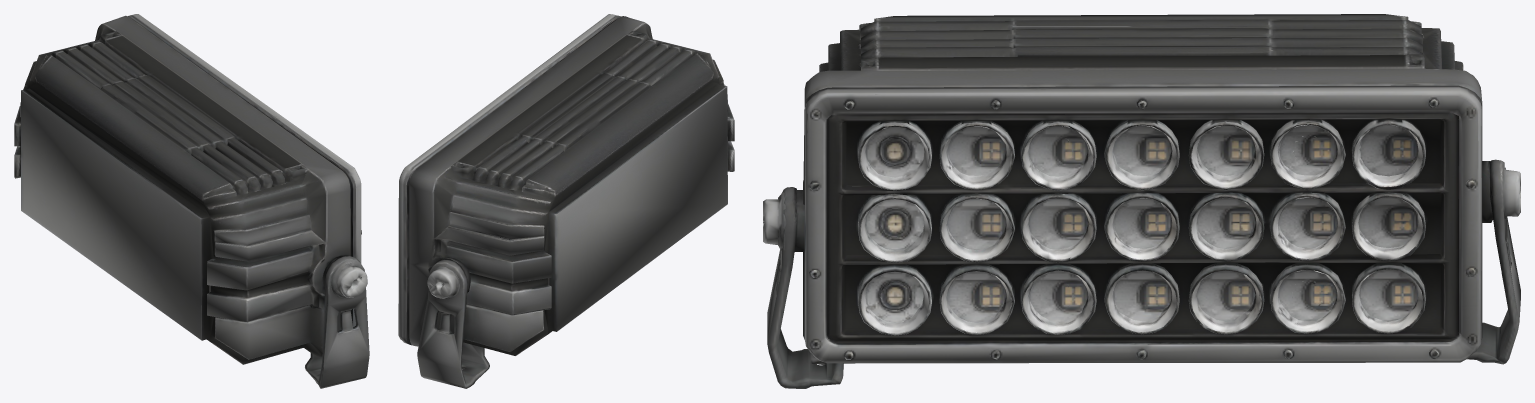
Rendered from c3-stadium-led-floodlight-pbr.glb.
3 views of the same model, side by side, from view 1: azimuth 30°, elevation 25°; view 2: azimuth 150°, elevation 25°; view 3: azimuth 270°, elevation 25° (orthographic). The views are drawn at different scales.
Parts seen in each view (by area): view 1: tripo_node_af177a9c-2fcc-43ba-afe4-e658c59dc539; view 2: tripo_node_af177a9c-2fcc-43ba-afe4-e658c59dc539; view 3: tripo_node_af177a9c-2fcc-43ba-afe4-e658c59dc539.
Boxes of the visible parts, <box> form: tripo_node_af177a9c-2fcc-43ba-afe4-e658c59dc539: <box>14,14,369,388</box>; tripo_node_af177a9c-2fcc-43ba-afe4-e658c59dc539: <box>398,14,734,388</box>; tripo_node_af177a9c-2fcc-43ba-afe4-e658c59dc539: <box>763,14,1520,388</box>.
Size of the model in its own units: 0.1529 by 0.2 by 0.4624.
Materials: 1 (1 with a texture image).
